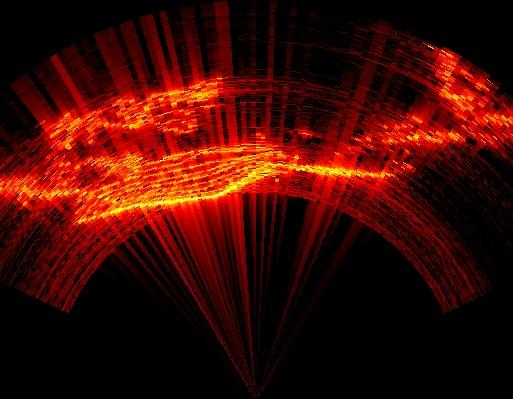shipwreck: (0, 143, 395, 222), (49, 79, 219, 154), (439, 51, 512, 147), (378, 111, 463, 149)
